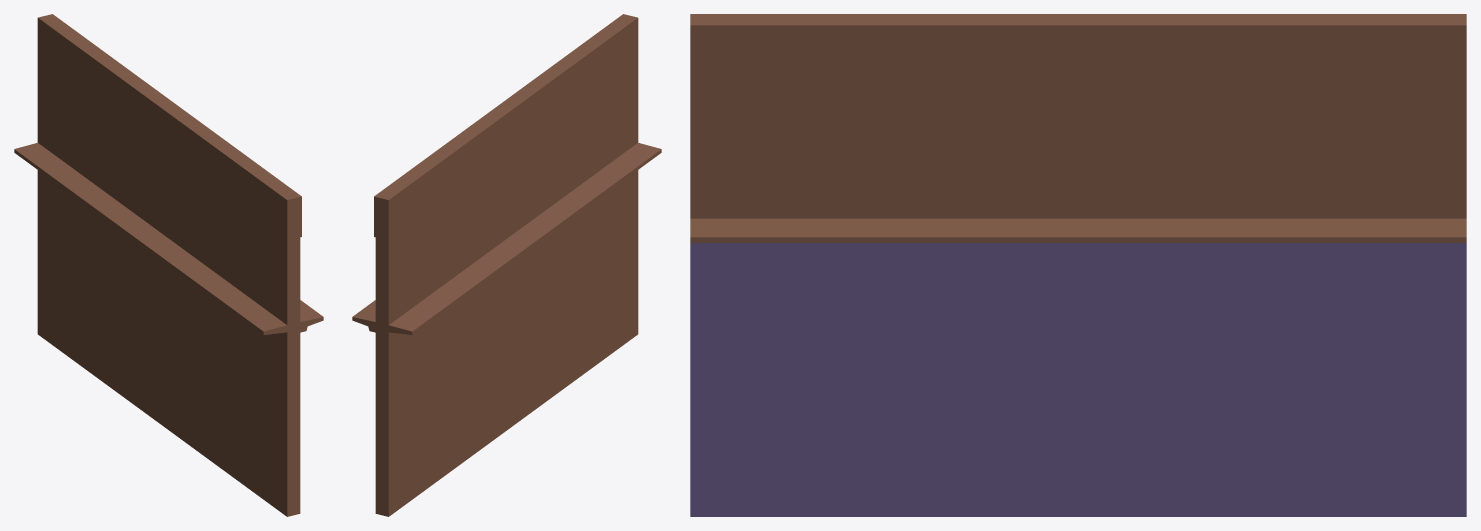
The model's file is Eya Indoors BedRoom SIngleWall.fbx.
3 views of the same model, side by side, from view 1: azimuth 30°, elevation 25°; view 2: azimuth 150°, elevation 25°; view 3: azimuth 270°, elevation 25° (orthographic). The views are drawn at different scales.
Visible parts, largest first — view 1: Cube.004; view 2: Cube.004; view 3: Cube.004.
Boxes of the visible parts, left/top/right/bottom form: Cube.004: left=14, top=14, right=323, bottom=516; Cube.004: left=352, top=14, right=661, bottom=516; Cube.004: left=690, top=14, right=1466, bottom=516.
Bounding box in the file's own units: 69.53 × 350 × 499.
